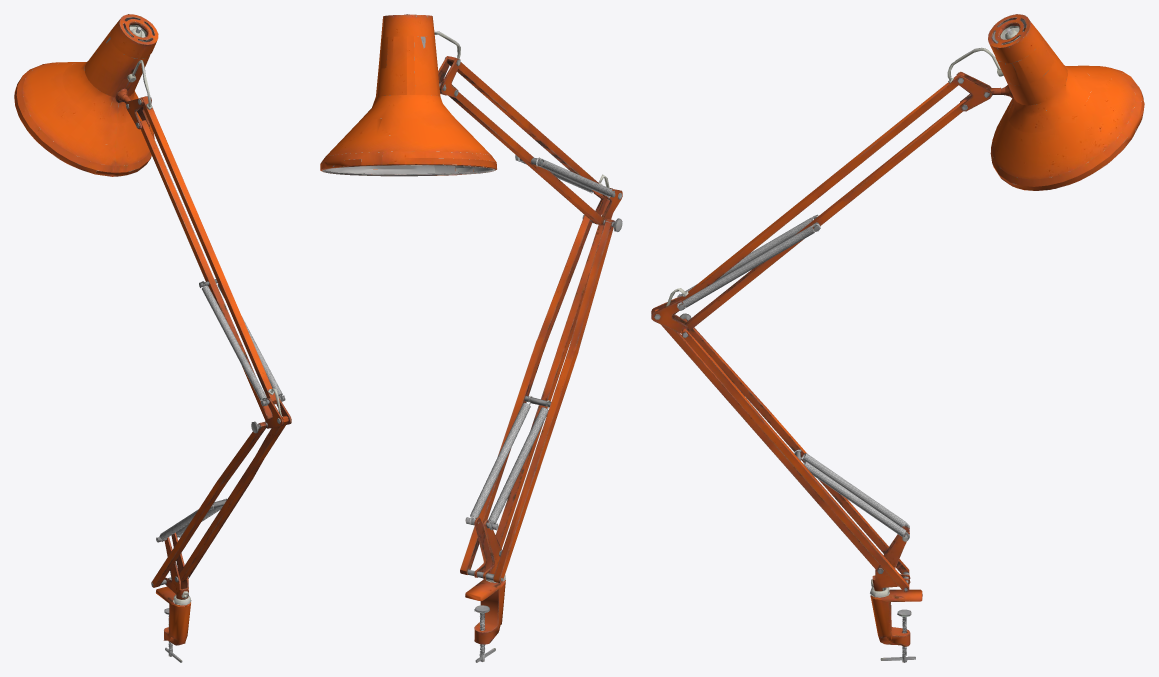
Rendered from desk_lamp_arm_01.glb.
The picture shows the model from 3 angles, left to right: view 1: azimuth 30°, elevation 25°; view 2: azimuth 150°, elevation 25°; view 3: azimuth 270°, elevation 25°; orthographic projection. The views are drawn at different scales.
Parts seen in each view (by area): view 1: desk_lamp_arm_01; view 2: desk_lamp_arm_01; view 3: desk_lamp_arm_01.
Part boxes in pixels (x1,y1,x2,y2): desk_lamp_arm_01: (14,14,291,662); desk_lamp_arm_01: (320,14,622,662); desk_lamp_arm_01: (651,14,1144,662).
Size of the model in its own units: 0.2018 by 0.8927 by 0.6143.
2 materials, 2 textured.
